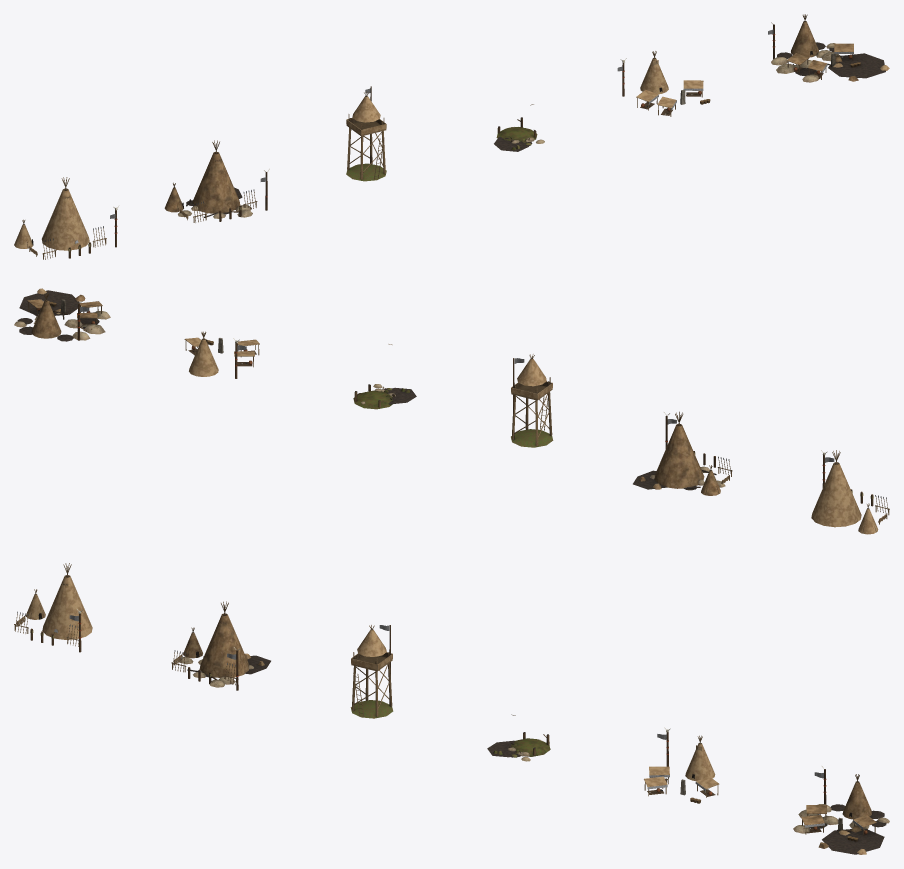
File: rts-stone-americas.glb
3 views of the same model, one above another, from view 1: azimuth 30°, elevation 25°; view 2: azimuth 150°, elevation 25°; view 3: azimuth 330°, elevation 25° (orthographic). The views are drawn at different scales.
Parts seen in each view (by area): view 1: LOD0.005, LOD0.001, LOD0, LOD0.002, LOD0.004, LOD0.003; view 2: LOD0.001, LOD0.005, LOD0, LOD0.002, LOD0.004, LOD0.003; view 3: LOD0.005, LOD0.001, LOD0, LOD0.002, LOD0.004, LOD0.003.
Boxes of the visible parts, x1,y1,x2,y2 form: LOD0.005: (768,14,889,82); LOD0.001: (164,140,269,222); LOD0: (14,177,119,259); LOD0.002: (346,86,386,181); LOD0.004: (617,51,710,116); LOD0.003: (494,104,544,151); LOD0.001: (633,411,732,495); LOD0.005: (14,288,110,341); LOD0: (811,450,889,534); LOD0.002: (511,354,553,447); LOD0.004: (184,331,259,378); LOD0.003: (353,344,416,409); LOD0.005: (793,766,889,854); LOD0.001: (171,601,270,690); LOD0: (14,563,92,652); LOD0.002: (350,625,393,718); LOD0.004: (644,727,719,803); LOD0.003: (487,714,550,761).
Size of what is drawn, in the model's own units: 16.79 by 1.53 by 1.85.
Materials: 2 (2 with a texture image).
